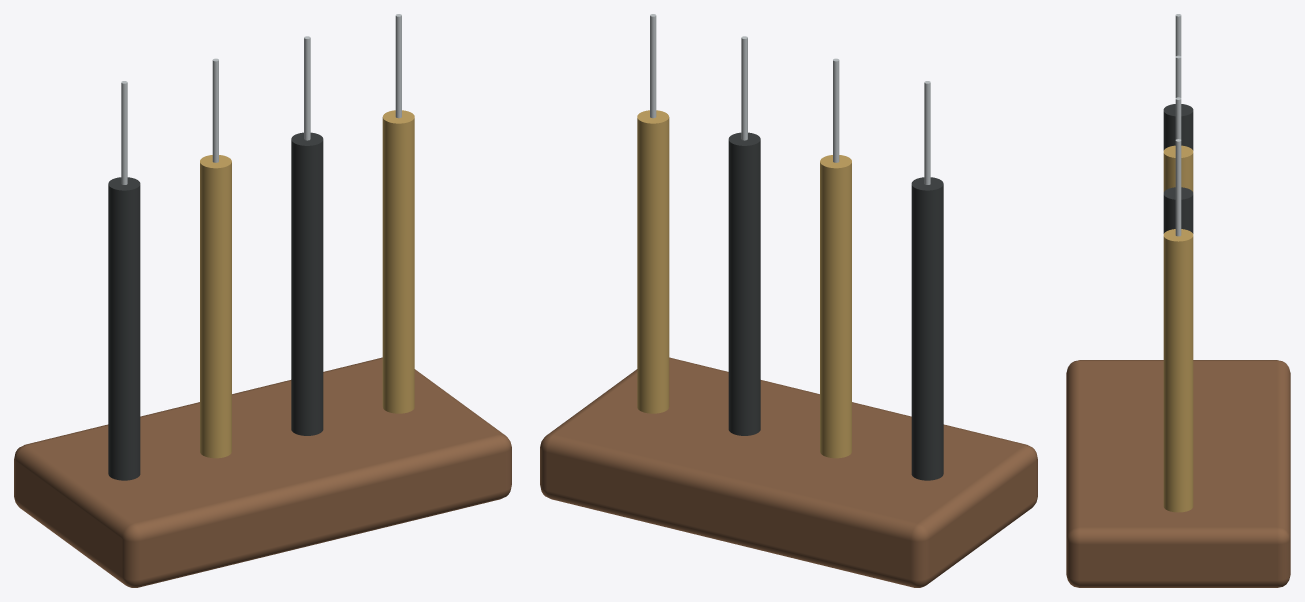
The model's file is clockmaker-and-watch-repair-oiler-stand-53ee2e7f__30626.glb.
3 renders of one model, left to right at view 1: azimuth 30°, elevation 25°; view 2: azimuth 150°, elevation 25°; view 3: azimuth 270°, elevation 25°, orthographic. The views are drawn at different scales.
Visible parts, largest first — view 1: oiler-stand; view 2: oiler-stand; view 3: oiler-stand.
Boxes of the visible parts, box(x1,y1,x2,y2) form: oiler-stand: box(14, 14, 511, 587); oiler-stand: box(540, 14, 1037, 587); oiler-stand: box(1066, 14, 1290, 587).
Size of the model in its own units: 0.14 by 0.157 by 0.075.
